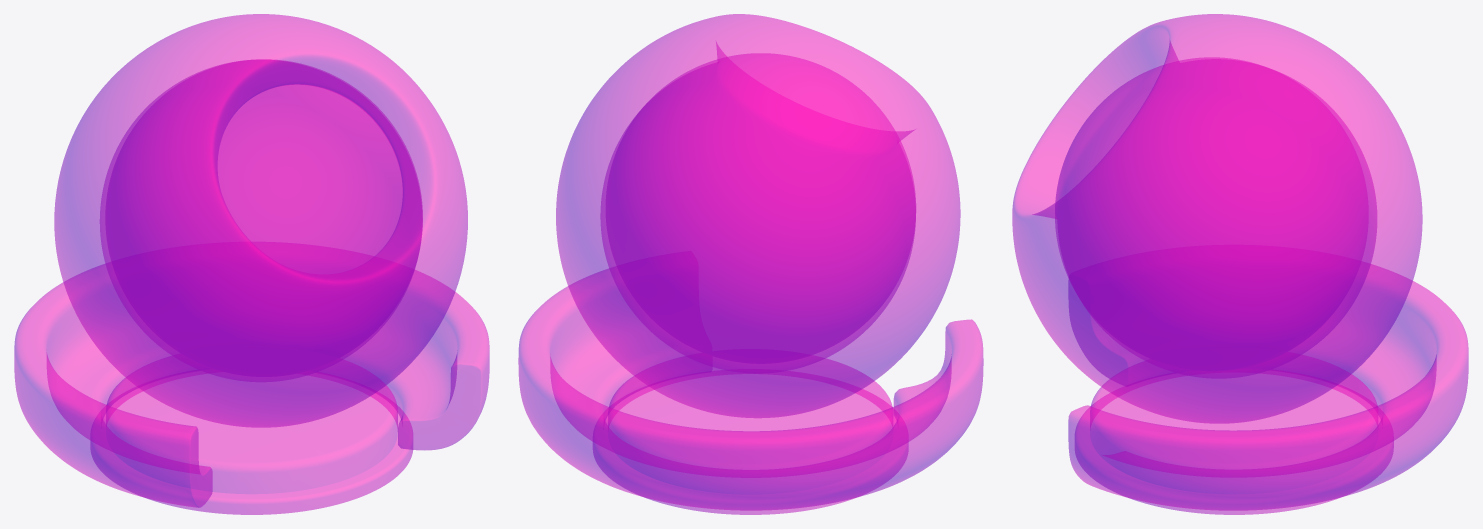
The model's file is gltf_test_nondefault_pbr.mtlx.gltf.
The picture shows the model from 3 angles, left to right: view 1: azimuth 30°, elevation 25°; view 2: azimuth 150°, elevation 25°; view 3: azimuth 270°, elevation 25°; orthographic projection. The views are drawn at different scales.
Parts seen in each view (by area): view 1: Preview_Mesh, Calibration_Mesh; view 2: Preview_Mesh, Calibration_Mesh; view 3: Preview_Mesh, Calibration_Mesh.
Boxes of the visible parts, box(x1,y1,x2,y2) form: Preview_Mesh: box(14, 14, 489, 507); Calibration_Mesh: box(90, 59, 422, 514); Preview_Mesh: box(518, 14, 983, 510); Calibration_Mesh: box(593, 53, 915, 514); Preview_Mesh: box(1012, 14, 1468, 510); Calibration_Mesh: box(1055, 57, 1393, 514).
Bounding box in the file's own units: 2.14 × 2.09 × 2.08.
